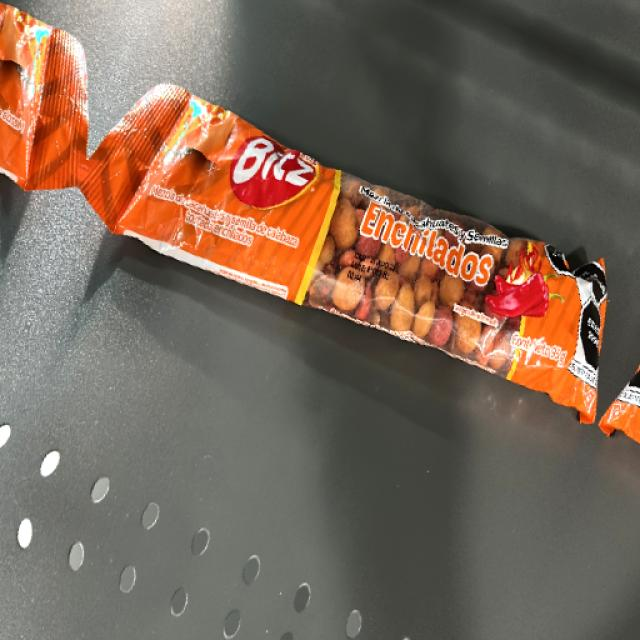bitzEnchilado95: (218, 160, 536, 352)
